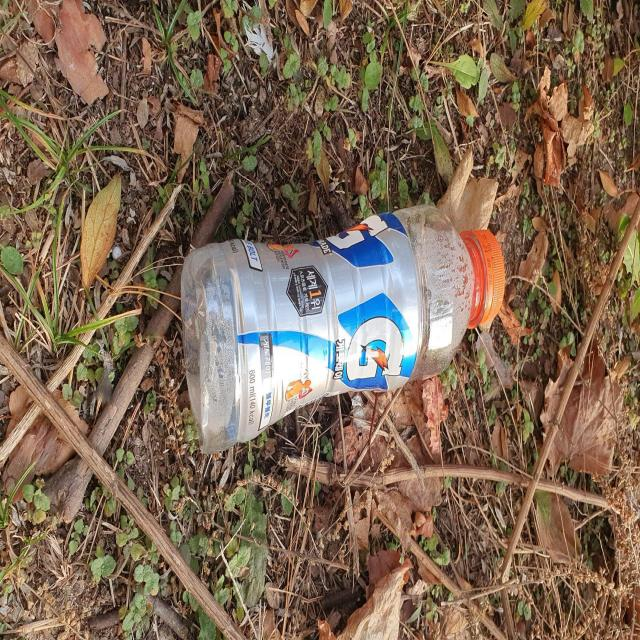plastic: (181, 203, 505, 454)
